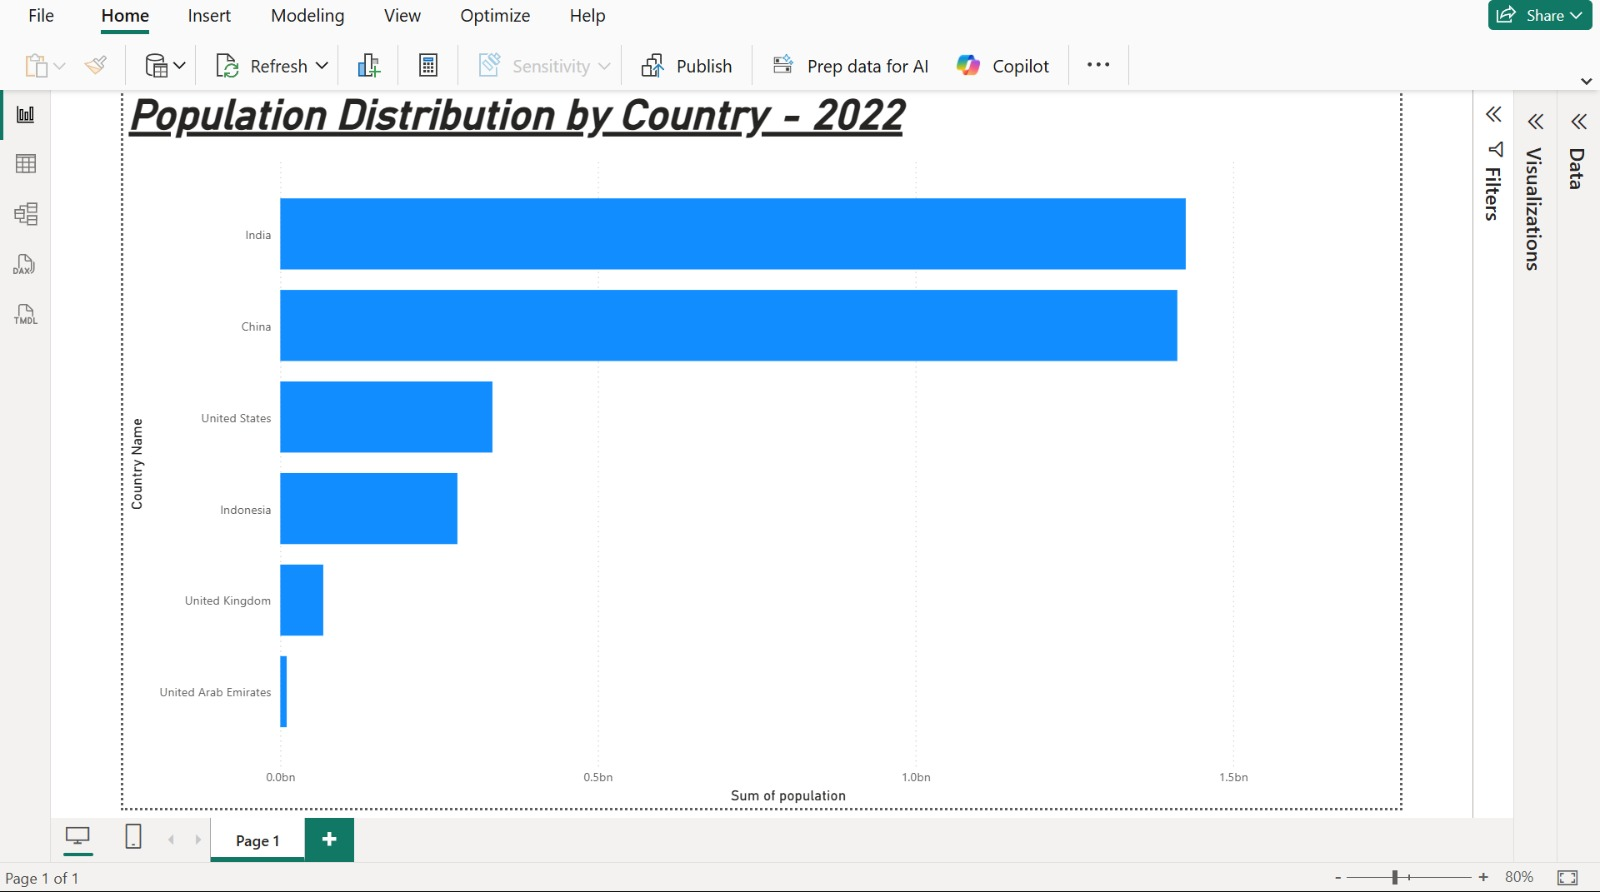

The dashboard page shown, as its layout file describes it:
{"tool":"powerbi","page":{"name":"Page 1","canvas":[1280,720],"ordinal":0},"visuals":[{"type":"clusteredBarChart","title":"Population Distribution by Country - 2022","fields":{"Category":["API_SP POP TOTL_DS2_en_csv_v2_33112.Country Name"],"Y":["Sum(API_SP POP TOTL_DS2_en_csv_v2_33112.population)"]},"box":[0,0,1195.7,720],"z":0}]}

Visuals, with their boxes on the page's 1280x720 design canvas (x1, y1, x2, y2). These are canvas units, not pixel positions in the 1600x892 screenshot, which may show the page scaled, cropped or inside an application window:
"Population Distribution by Country - 2022" clusteredBarChart: locate(0, 0, 1196, 720)
